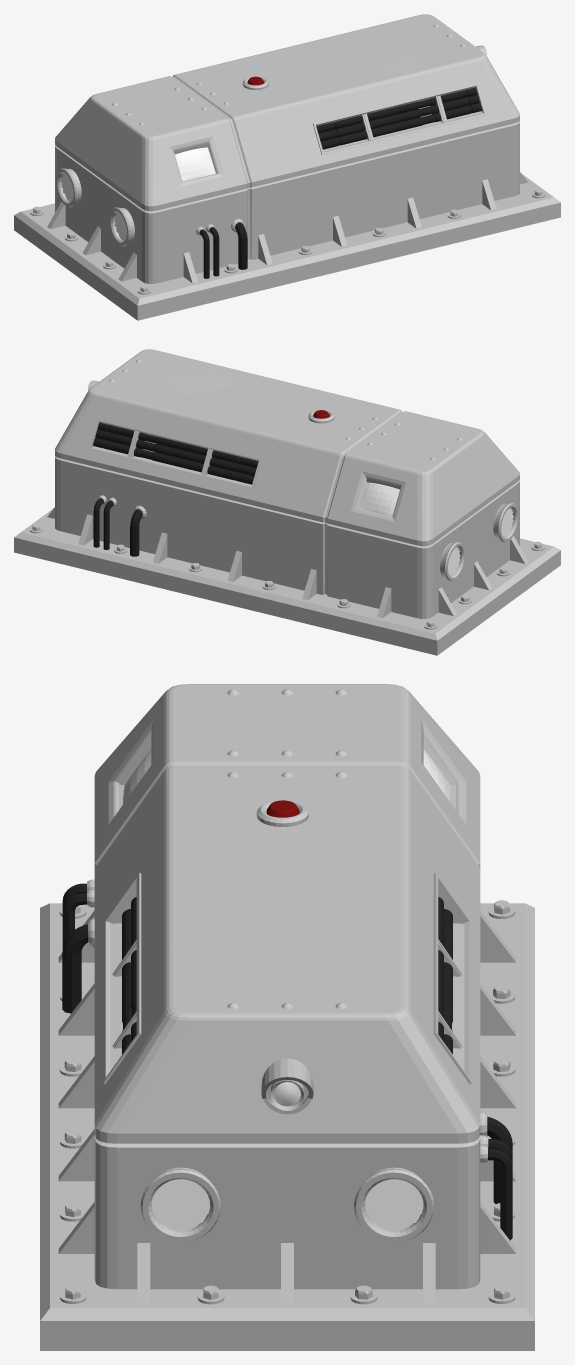
The model's file is TrashRunner.fbx.
3 views of the same model, one above another, from view 1: azimuth 30°, elevation 25°; view 2: azimuth 150°, elevation 25°; view 3: azimuth 270°, elevation 25° (orthographic). The views are drawn at different scales.
Parts seen in each view (by area): view 1: G-KB3D_CPP486.002; view 2: G-KB3D_CPP486.002; view 3: G-KB3D_CPP486.002.
Part boxes in pixels (box(x1,y1,x2,y2)): G-KB3D_CPP486.002: box(14, 14, 560, 320); G-KB3D_CPP486.002: box(14, 349, 560, 655); G-KB3D_CPP486.002: box(40, 684, 534, 1350).
Size of the model in its own units: 801 by 278 by 405.
